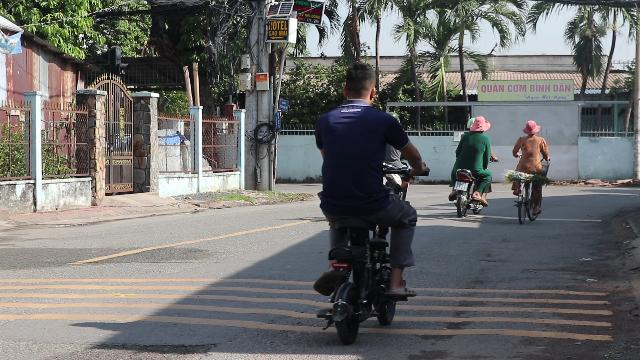motorcyclist: (306, 62, 426, 346)
nohelmet: (339, 63, 377, 106)
